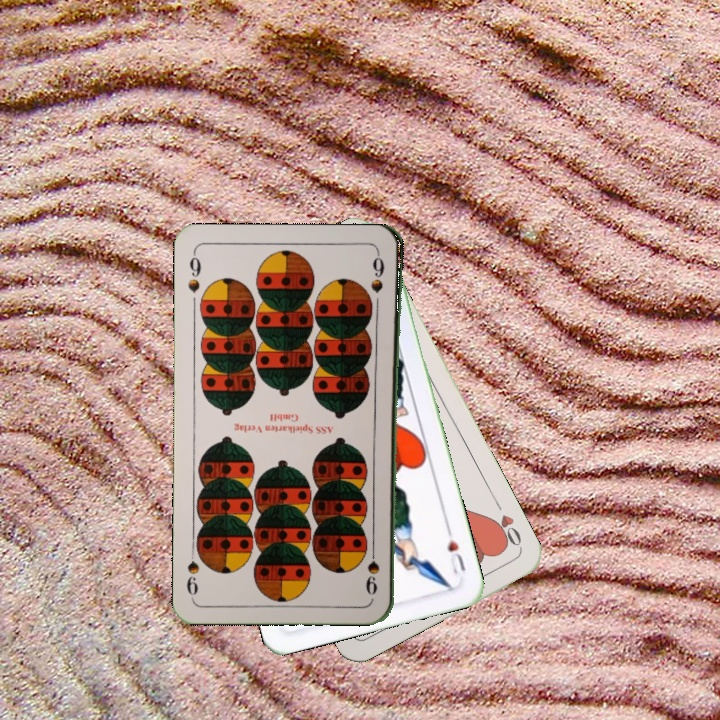HO: (487, 496, 524, 550)
HU: (443, 523, 468, 577)
S9: (184, 249, 204, 296), (365, 540, 381, 598)
